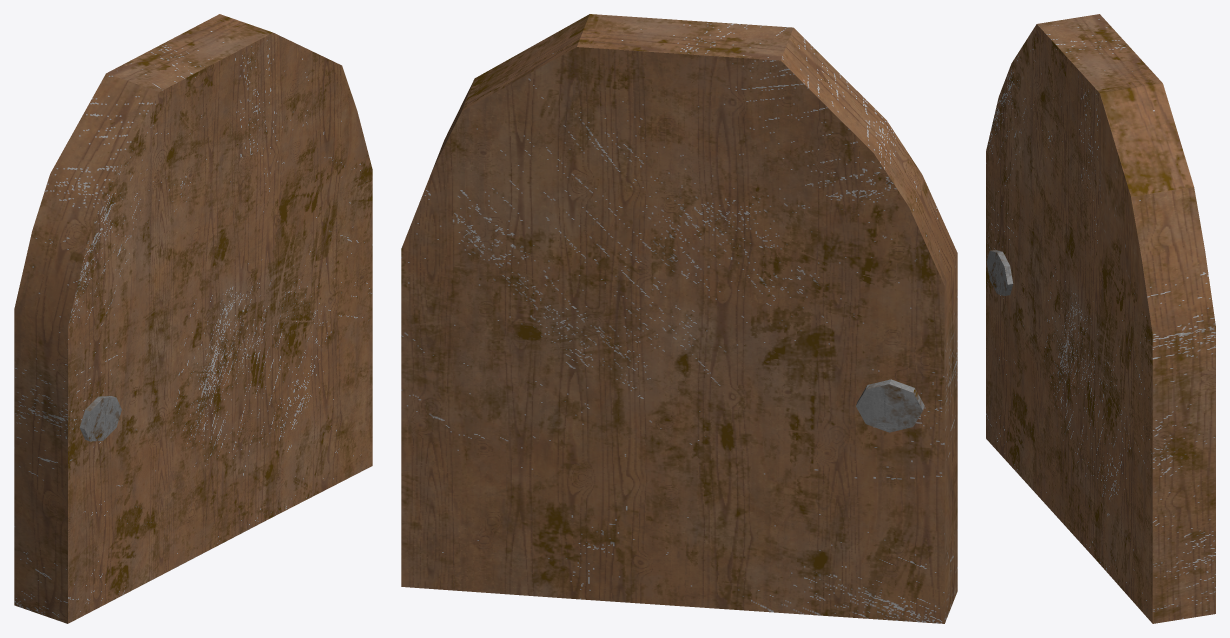
Rendered from PuertaMadera.fbx.
The picture shows the model from 3 angles, left to right: view 1: azimuth 30°, elevation 25°; view 2: azimuth 150°, elevation 25°; view 3: azimuth 270°, elevation 25°; orthographic projection. The views are drawn at different scales.
Parts seen in each view (by area): view 1: Cylinder.004; view 2: Cylinder.004; view 3: Cylinder.004.
Boxes of the visible parts, x1=… form: Cylinder.004: x1=14, y1=14, x2=372, y2=623; Cylinder.004: x1=401, y1=14, x2=957, y2=623; Cylinder.004: x1=986, y1=14, x2=1215, y2=623.
Size of the model in its own units: 377 by 424 by 188.
Materials: 1 (1 with a texture image).
